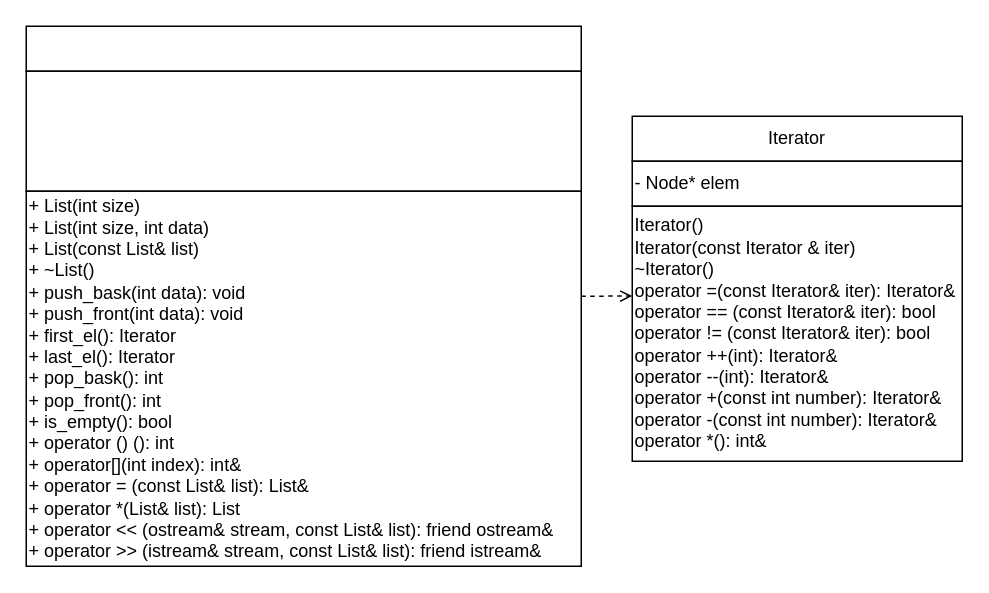
Image size: 989x593. Some labels were removed from this diagram. Each missing label, with the centre of its shape:
- int size - Node* head - Node* tail - Iterator begin - Iterator end: point (303, 130)
List: point (303, 48)
